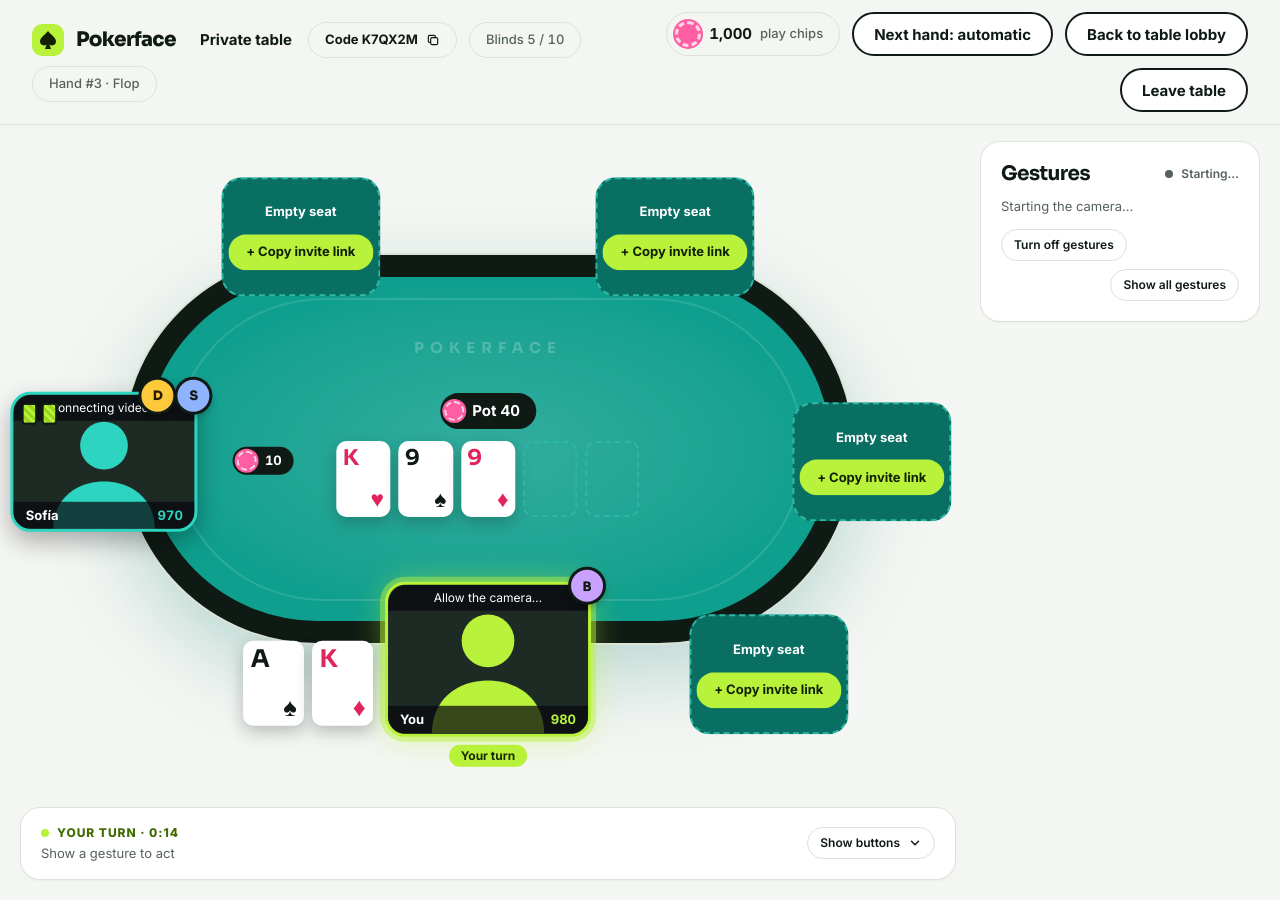
TablePage › lists the gestures, dimming the ones I cannot use this turn
The width and height of the screenshot is (1280, 900).
Expected: the element named "You, " is shown, [385,582,591,767]
Expected: the text "Call 10" is not shown
Click the button "Show all gestures" at (1175, 284), box [1110,268,1239,300]
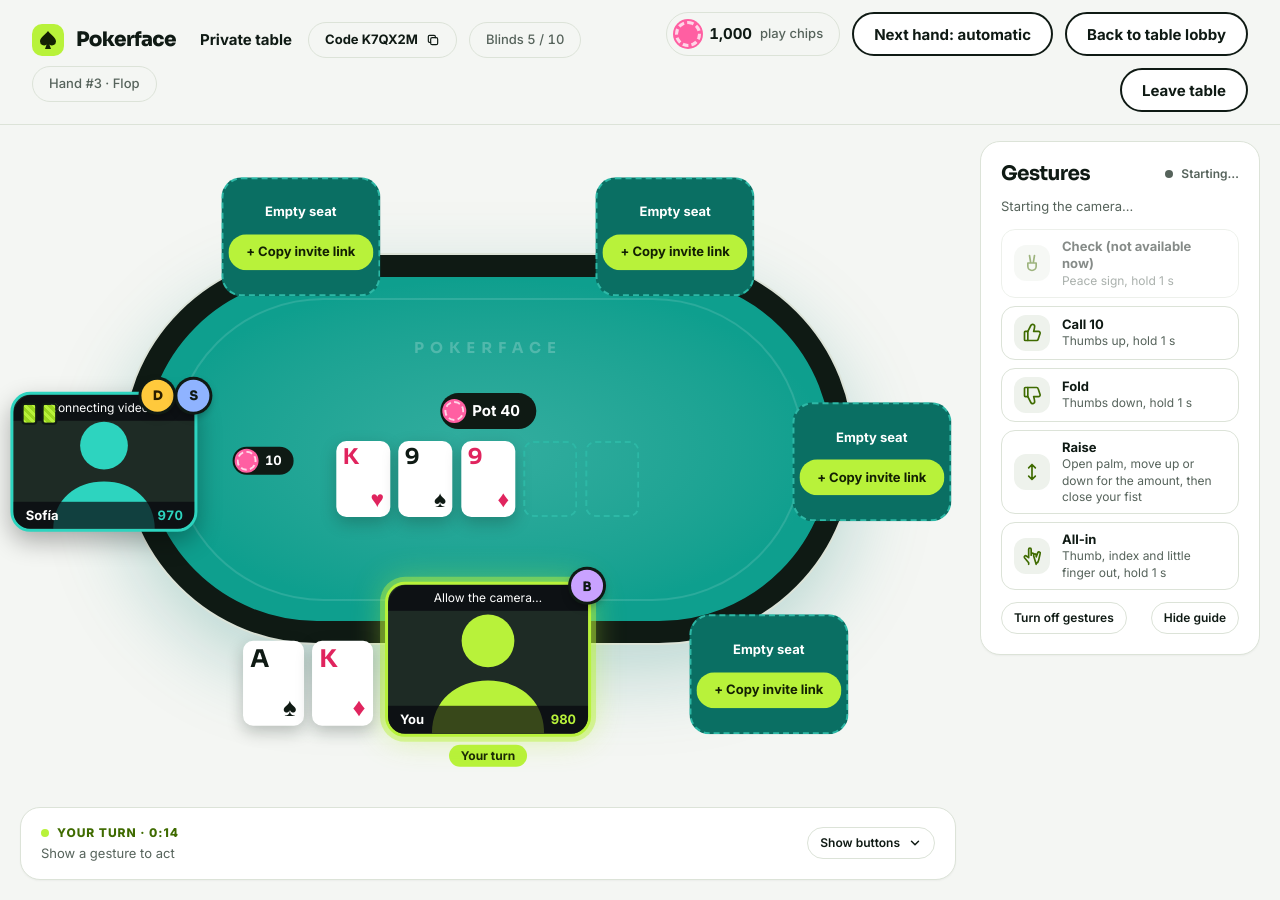
Result: the button "Hide guide" is expanded at [1151,602,1239,634]
Result: the text "Call 10" is shown at [1062,316,1104,332]
Result: the text "Check (not available now)" is shown at [1062,238,1191,271]
